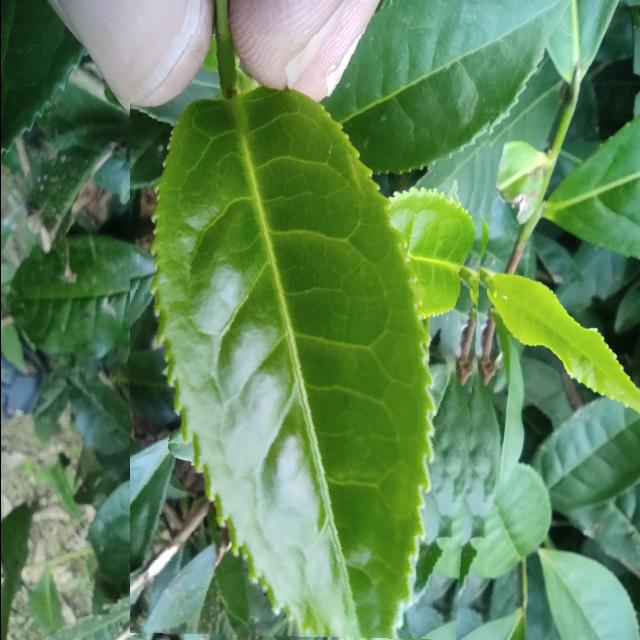Category C(4-7 days): (129, 34, 495, 640)
